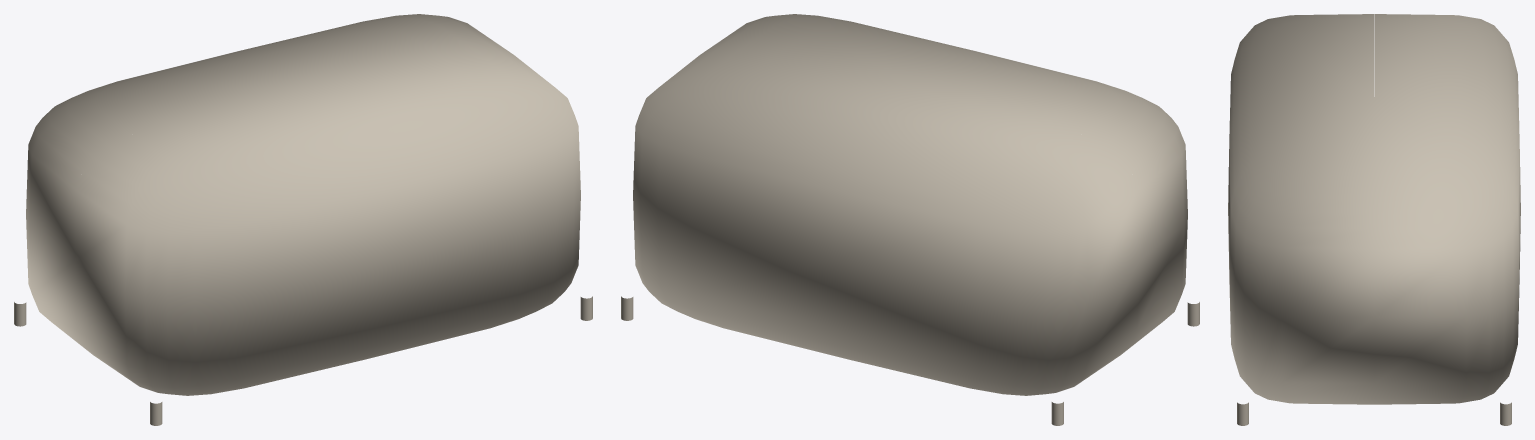
File: ikea-vimle-29268171-g2-proxy.glb
3 views of the same model, side by side, from view 1: azimuth 30°, elevation 25°; view 2: azimuth 150°, elevation 25°; view 3: azimuth 270°, elevation 25° (orthographic). The views are drawn at different scales.
Parts seen in each view (by area): view 1: proxy_body; view 2: proxy_body; view 3: proxy_body.
Part boxes in pixels (x1,y1,x2,y2): proxy_body: (26,14,580,395); proxy_body: (633,14,1187,395); proxy_body: (1228,14,1520,404).
Size of the model in its own units: 1.71 by 0.83 by 0.98.
